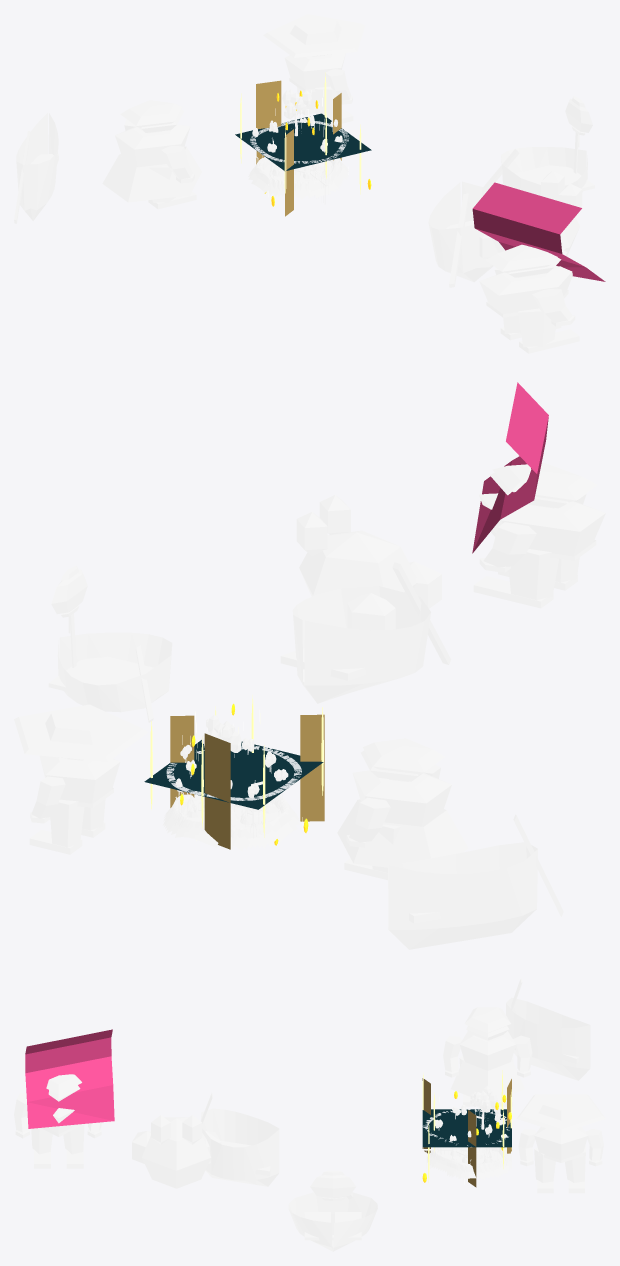
Rendered from ile-marais-v5-leger.glb.
3 renders of one model, top to bottom at view 1: azimuth 30°, elevation 25°; view 2: azimuth 150°, elevation 25°; view 3: azimuth 270°, elevation 25°, orthographic. The views are drawn at different scales.
Visible parts, largest first — view 1: ile_anime4.023, ile_anime2.029, ile_anime3.027, ile_banniere0.015, ile_anime5.019, ile_anime0.029, ile_corps.029, ile_libre0.027, ile_anime1.029, ile_vitres.019, ile_anime6.005, ile_lumieres.029; view 2: ile_anime1.029, ile_anime0.029, ile_anime4.023, ile_anime2.029, ile_anime3.027, ile_anime6.005, ile_anime5.019, ile_vitres.019, ile_corps.029, ile_libre0.027, ile_banniere0.015, ile_lumieres.029; view 3: ile_banniere0.015, ile_anime3.027, ile_anime4.023, ile_anime0.029, ile_anime5.019, ile_anime1.029, ile_anime6.005, ile_anime2.029, ile_corps.029, ile_libre0.027, ile_vitres.019, ile_lumieres.029.
Part boxes in pixels (x1,y1,x2,y2): ile_anime4.023: (102, 100, 201, 209); ile_anime2.029: (479, 244, 579, 353); ile_anime3.027: (263, 14, 365, 123); ile_banniere0.015: (472, 182, 605, 281); ile_anime5.019: (483, 96, 594, 200); ile_anime0.029: (428, 181, 493, 287); ile_corps.029: (248, 89, 348, 204); ile_libre0.027: (235, 113, 371, 170); ile_anime1.029: (14, 113, 58, 223); ile_vitres.019: (256, 80, 341, 216); ile_anime6.005: (479, 171, 582, 258); ile_lumieres.029: (240, 72, 371, 206); ile_anime1.029: (388, 814, 563, 949); ile_anime0.029: (280, 562, 451, 703); ile_anime4.023: (337, 738, 468, 880); ile_anime2.029: (473, 463, 605, 608); ile_anime3.027: (14, 704, 148, 854); ile_anime6.005: (296, 495, 441, 630); ile_anime5.019: (48, 565, 172, 722); ile_vitres.019: (170, 714, 324, 849); ile_corps.029: (162, 714, 300, 851); ile_libre0.027: (144, 740, 323, 809); ile_banniere0.015: (472, 382, 548, 553); ile_lumieres.029: (150, 695, 323, 849); ile_banniere0.015: (25, 1029, 114, 1128); ile_anime3.027: (516, 1094, 605, 1193); ile_anime4.023: (443, 1007, 532, 1106); ile_anime0.029: (201, 1092, 279, 1186); ile_anime5.019: (288, 1170, 377, 1251); ile_anime1.029: (506, 978, 590, 1080); ile_anime6.005: (132, 1115, 221, 1188); ile_anime2.029: (14, 1074, 101, 1168); ile_corps.029: (422, 1086, 511, 1180); ile_libre0.027: (422, 1109, 511, 1147); ile_vitres.019: (422, 1078, 511, 1187); ile_lumieres.029: (422, 1070, 511, 1184).
Bounding box in the file's own units: 11.01 × 3.36 × 13.23.
